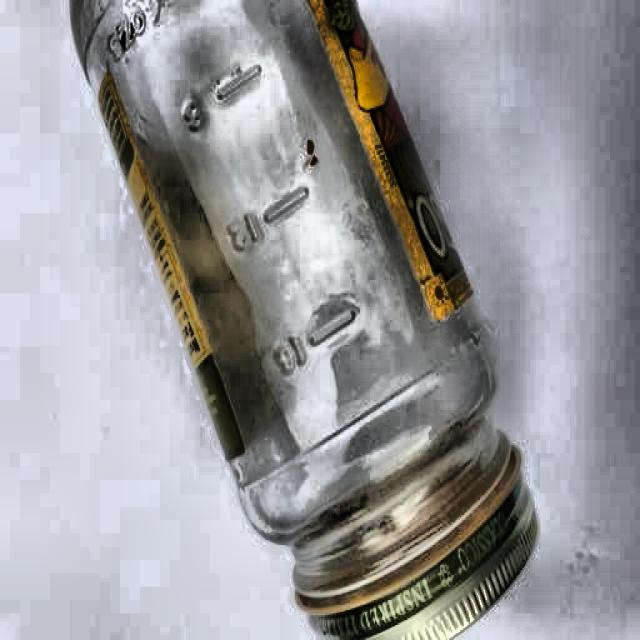glass: (69, 0, 543, 640)
